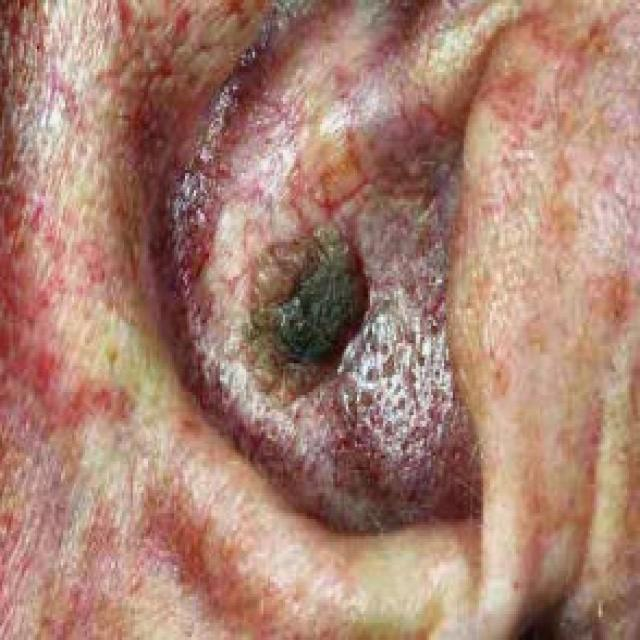Seborrheic-Keratoses-and-other-Benign-Tumors: (98, 25, 522, 564)
